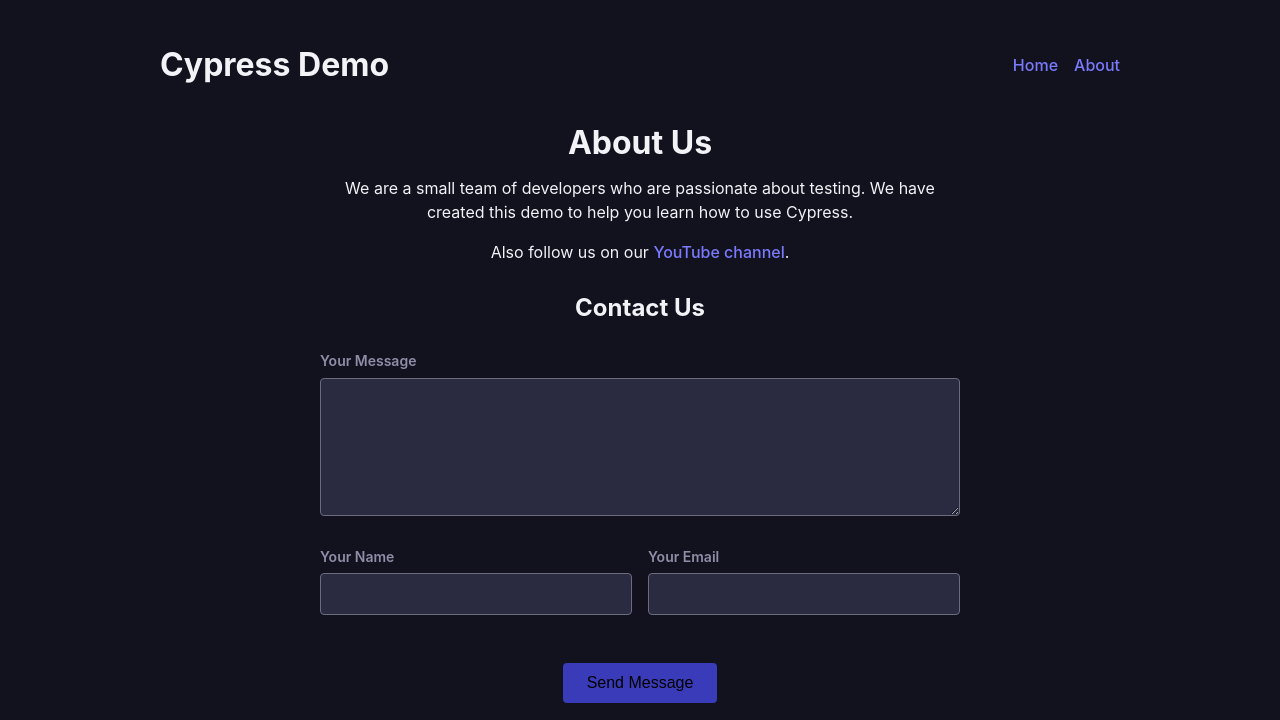
contact form › should submit the form
Type "Hello world!" into the text box labelled "Your Message" at (640, 447), box [320, 378, 960, 516]
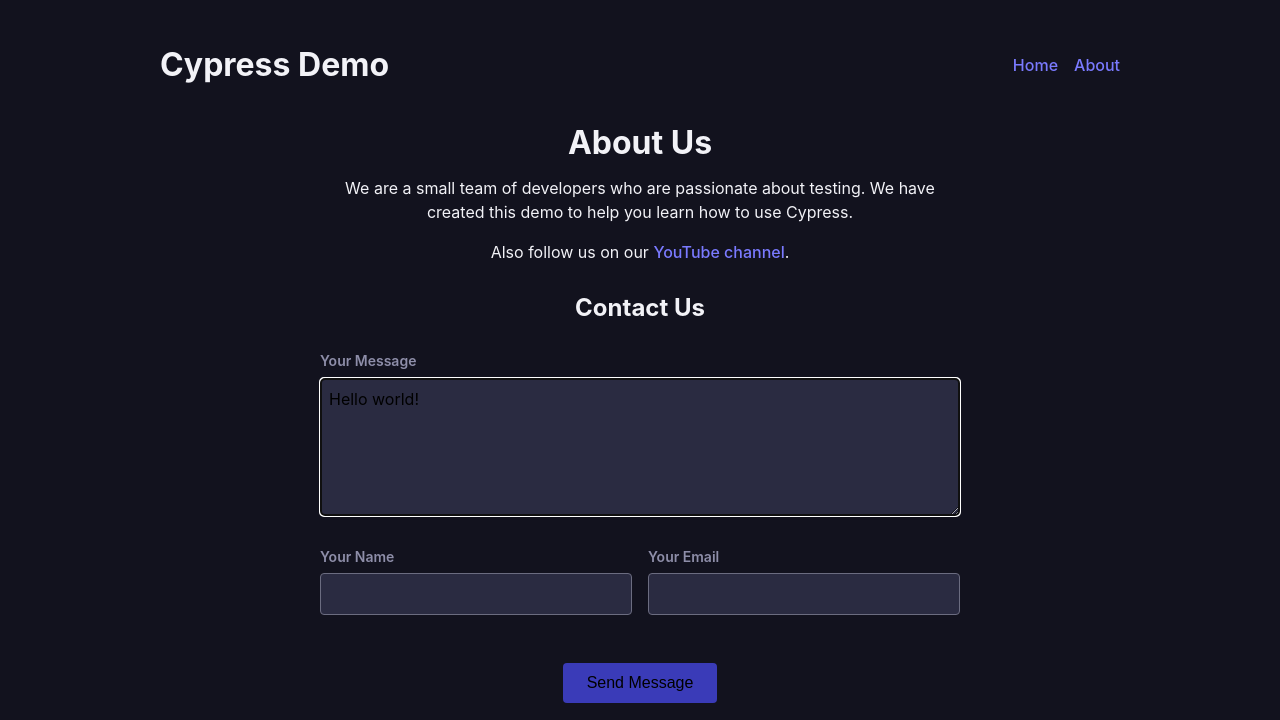
Type "Sazzad Hossen" into the field labelled "Your Name" at (476, 594), box [320, 573, 632, 615]
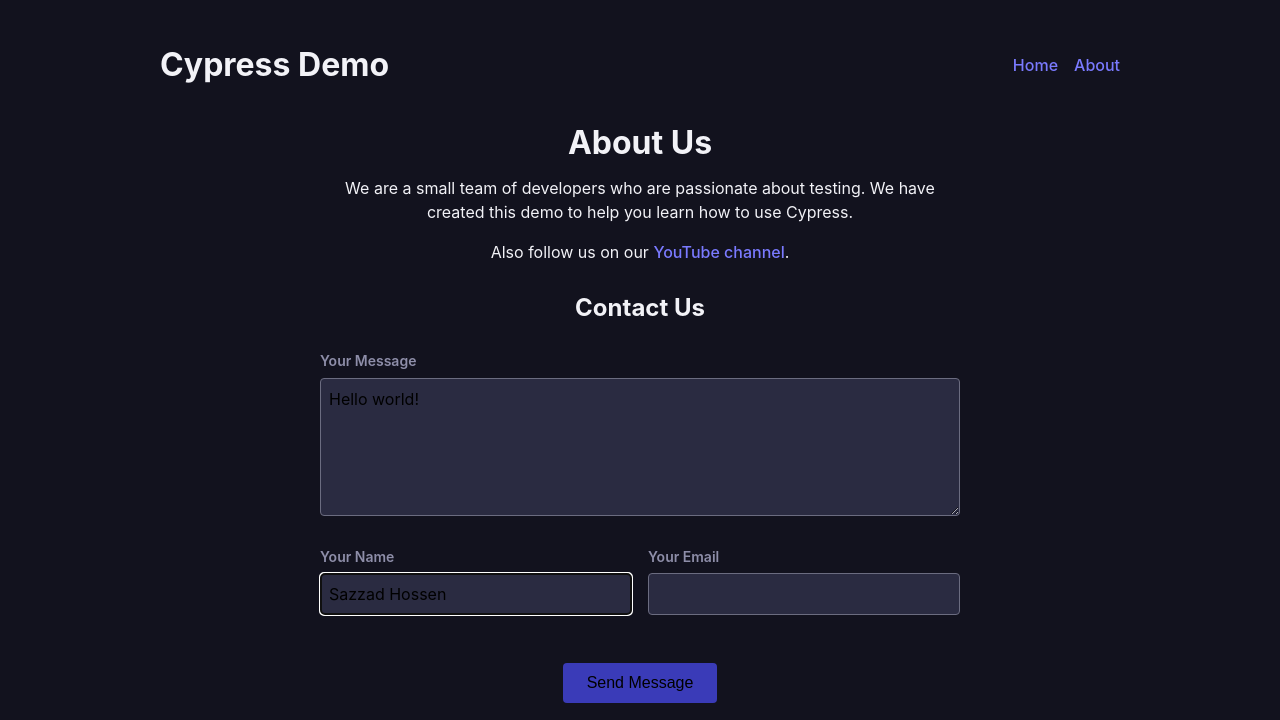
Type "test@example.com" into the field labelled "Your Email" at (804, 594), box [648, 573, 960, 615]
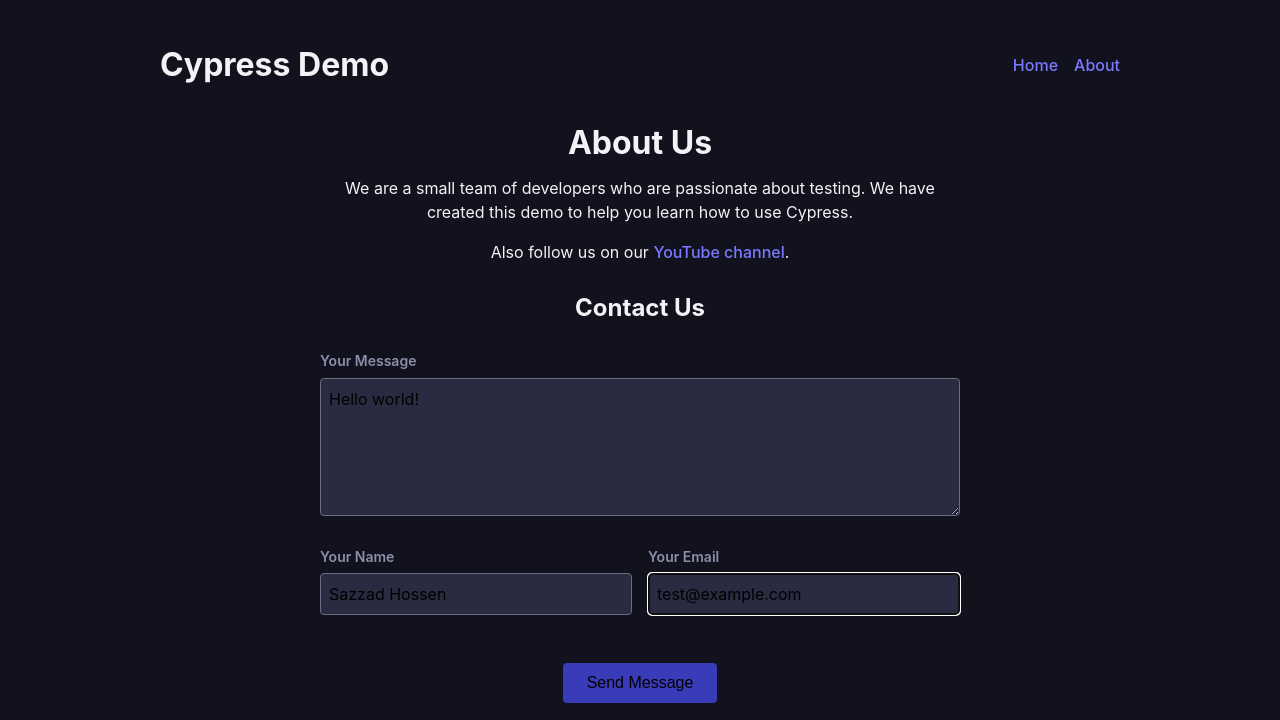
Click the button with test id "contact-btn-submit" at (641, 683), box [563, 663, 718, 703]
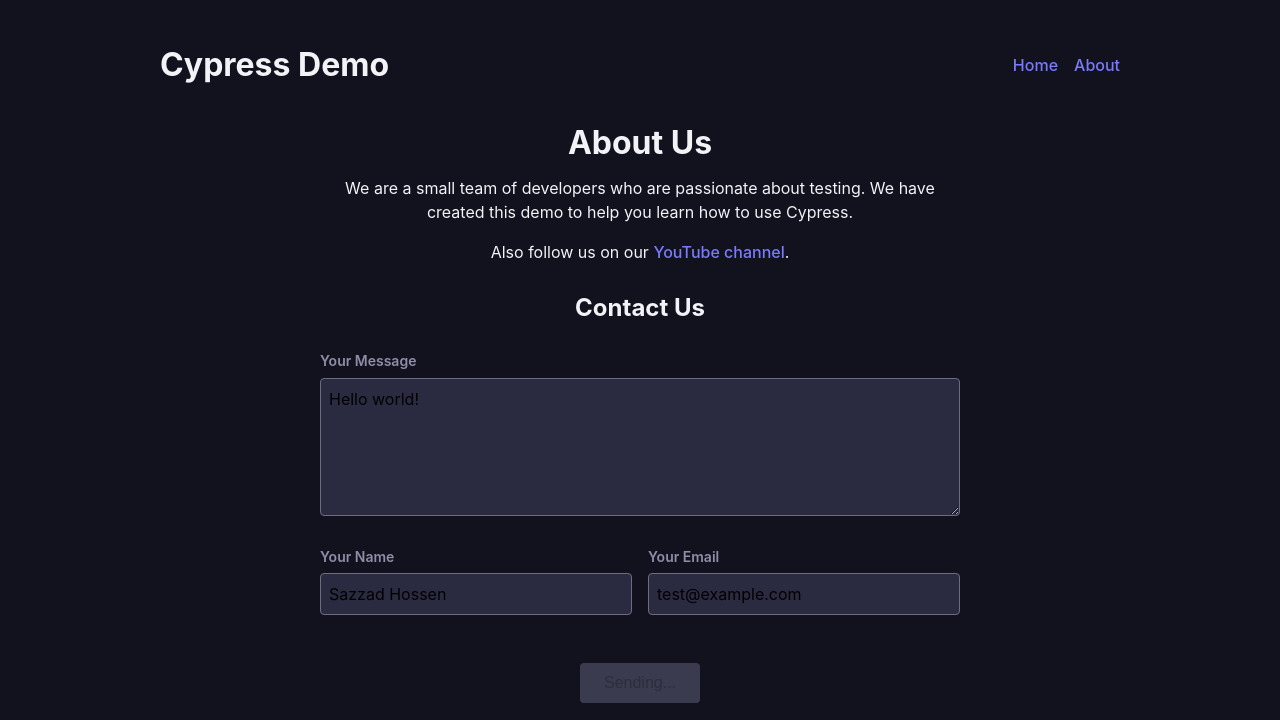
Result: the button "Sending..." is shown at [580, 663, 700, 703]
